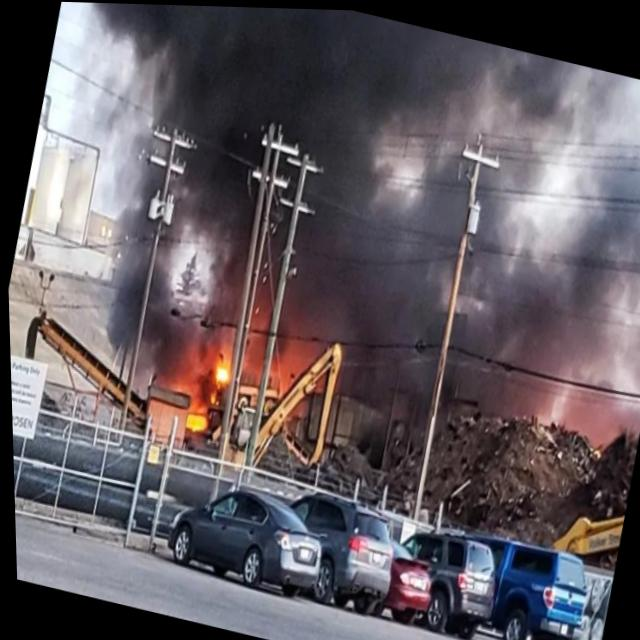fire: (200, 347, 234, 408)
